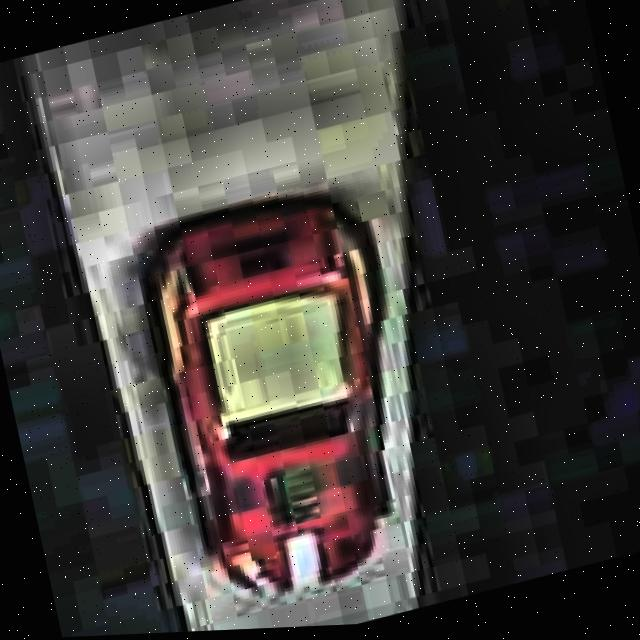car: (124, 161, 444, 626)
